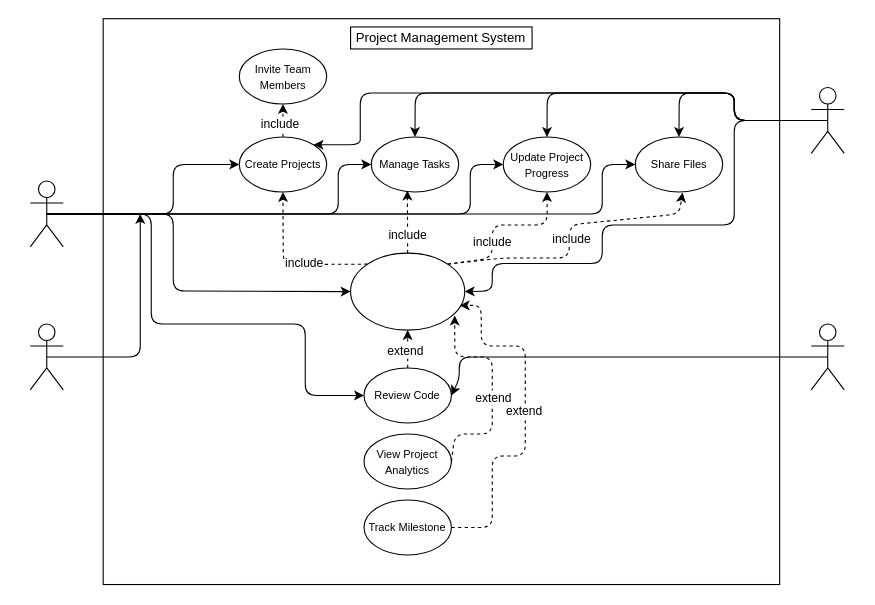
Some shapes in this 875 by 605 pixel diagram are drawn without their labels. Here are the shapes that lost their labels. From the top down, the box of each, then its label:
(810, 86, 844, 153): Admin
(29, 180, 63, 247): Student
(349, 252, 465, 330): Collaborate on Projects
(29, 323, 63, 390): Instructor
(810, 323, 844, 390): AI Mentor
